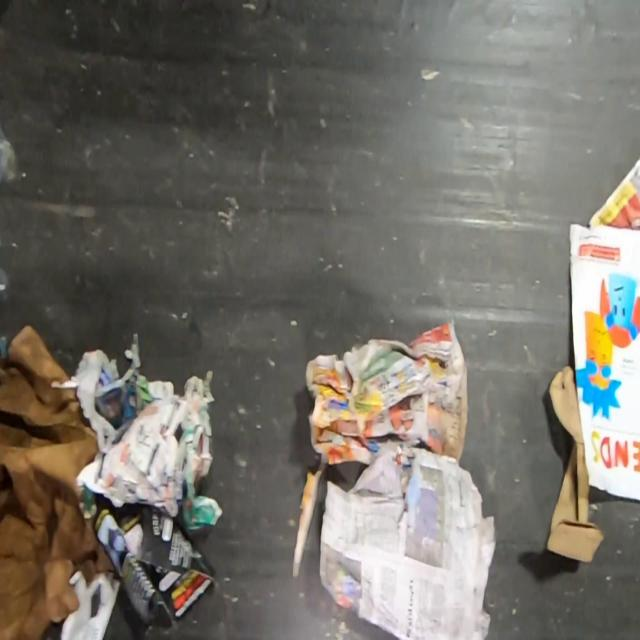cardboard: (546, 365, 604, 563)
soft_plastic: (0, 127, 20, 186)
